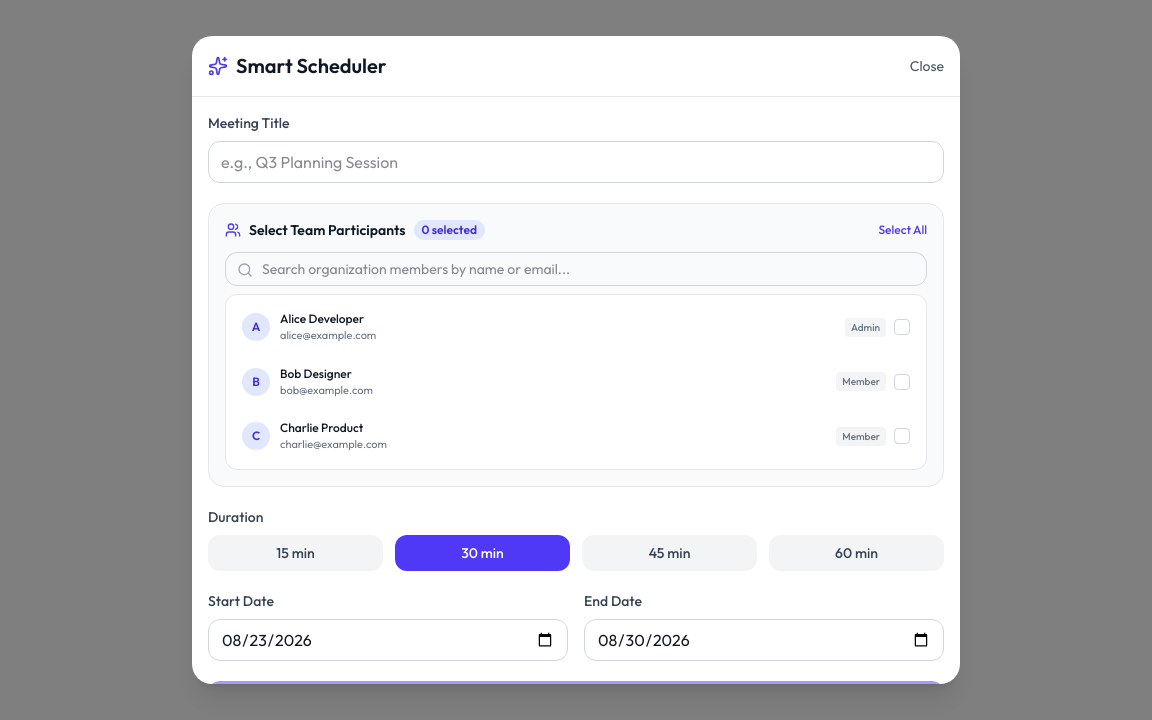
Scenario: SchedulerWizard Component (#1897) › allows searching and selecting multiple team members
// Select Alice
Click the text "Alice Developer": {"x": 328, "y": 319} [280,311,376,327]
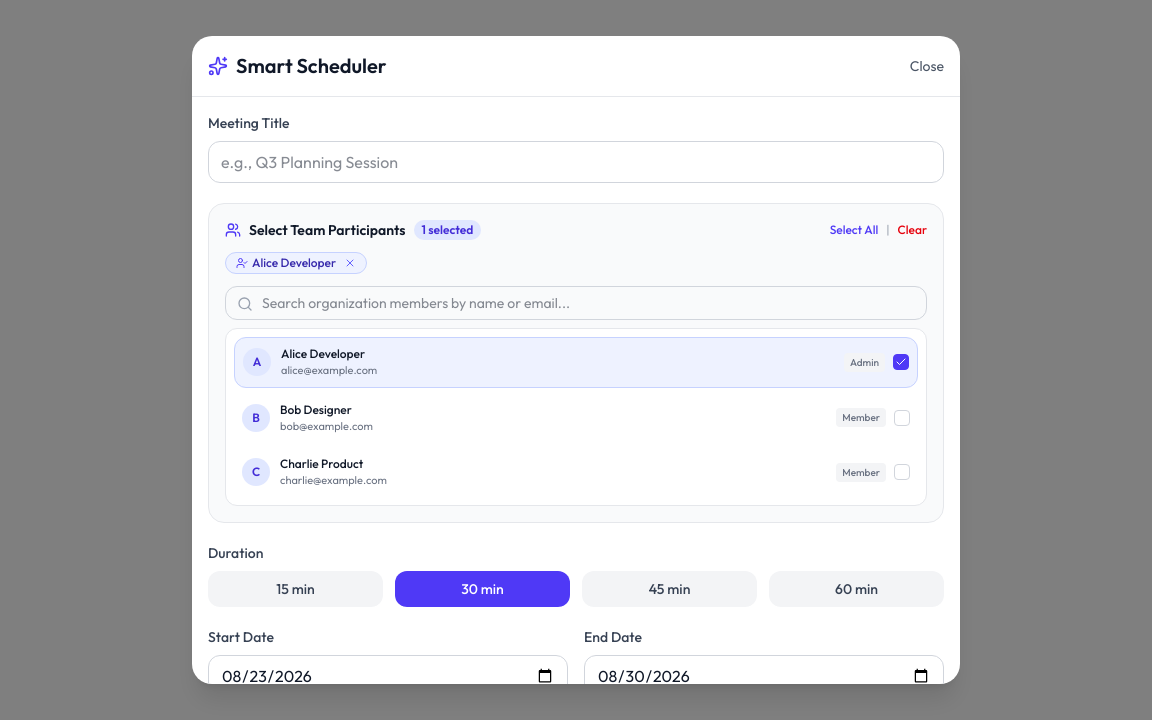
Expected: the text "1 selected" is shown, [414,220,481,240]
// Select Bob
Click the text "Bob Designer": {"x": 316, "y": 409} [280,402,352,416]
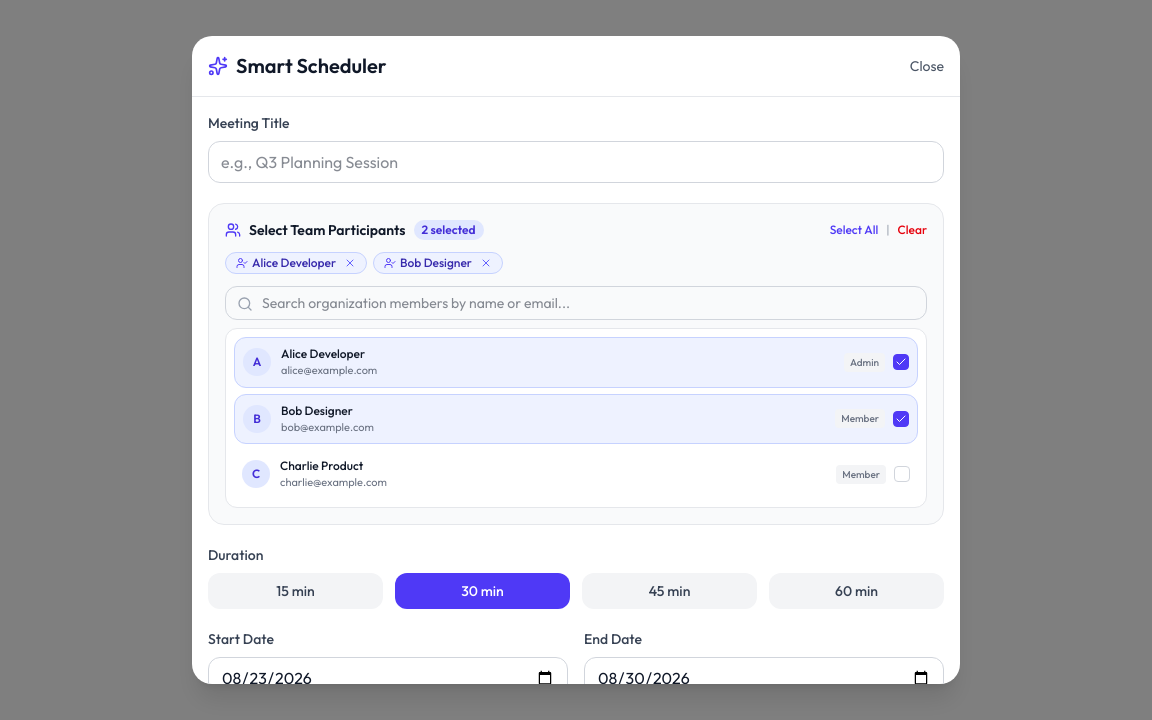
Expected: the text "2 selected" is shown, [414,220,484,240]
In the field with placeholder "Search organization members by name or email...": {"x": 576, "y": 303} [225,286,927,320], type "Charlie"
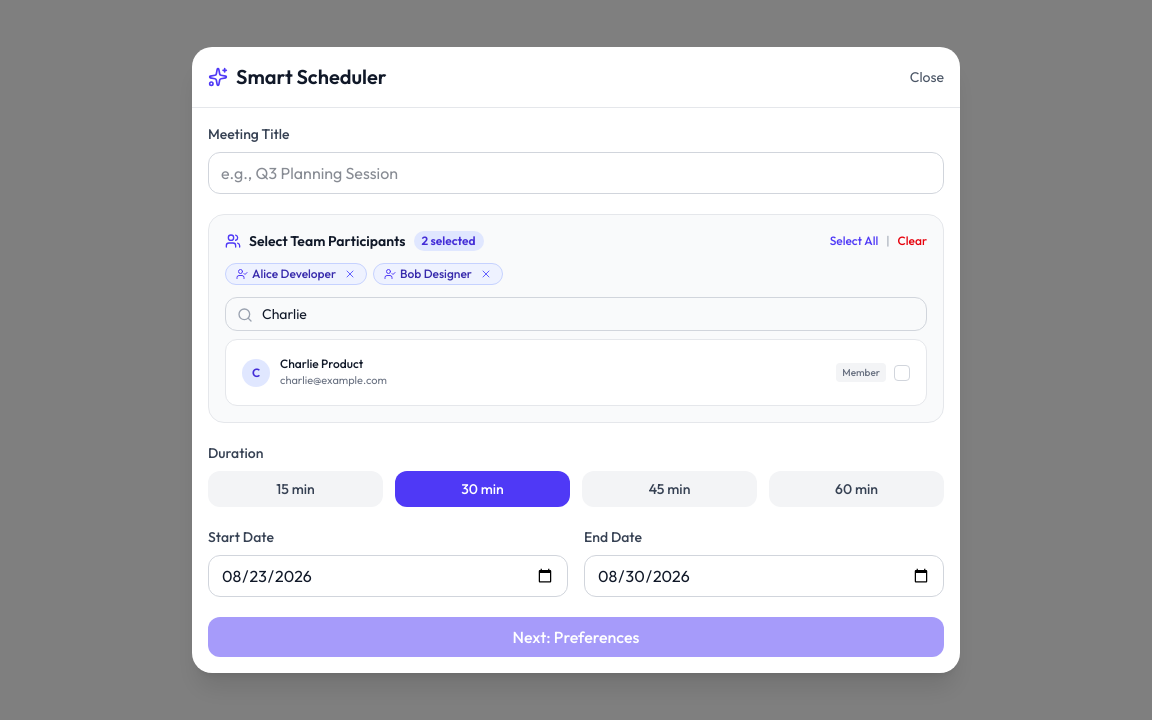
Expected: the button named "Remove Alice Developer" is shown, [344,268,356,280]
Expected: the button named "Remove Bob Designer" is shown, [480,268,492,280]
// Select Charlie
Click the text "Charlie Product": {"x": 322, "y": 364} [280,356,363,371]
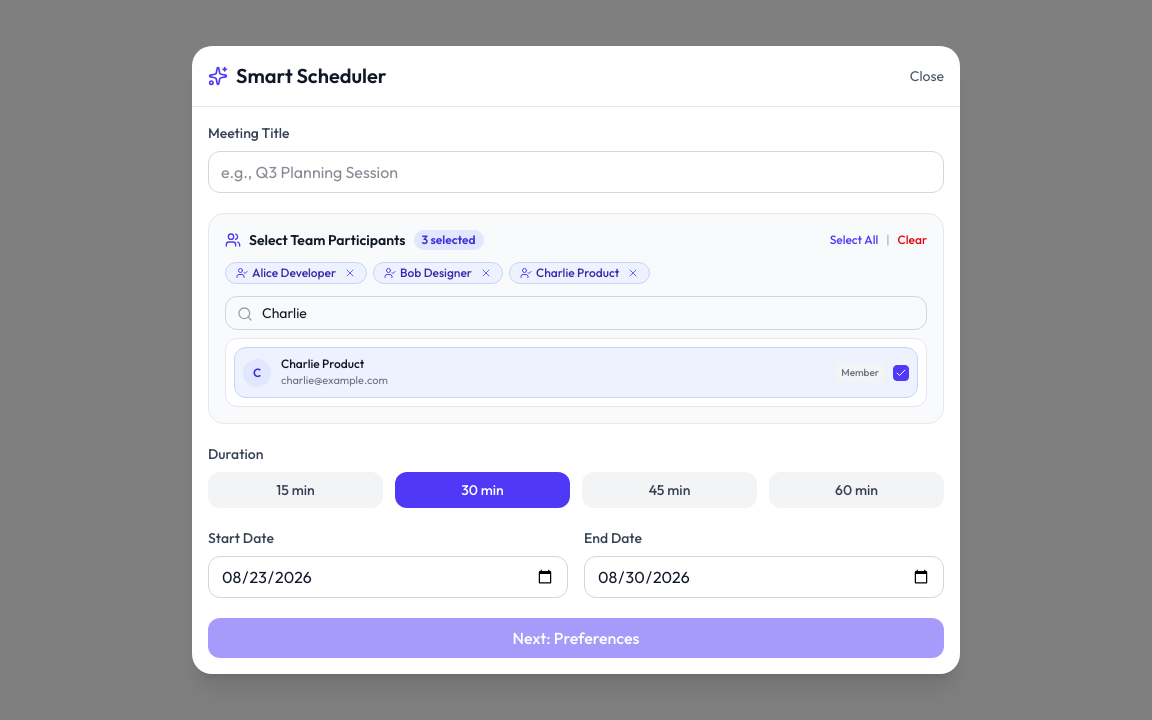
Expected: the text "3 selected" is shown, [414,230,484,250]
Expected: the button named "Remove Charlie Product" is shown, [627,267,639,279]
